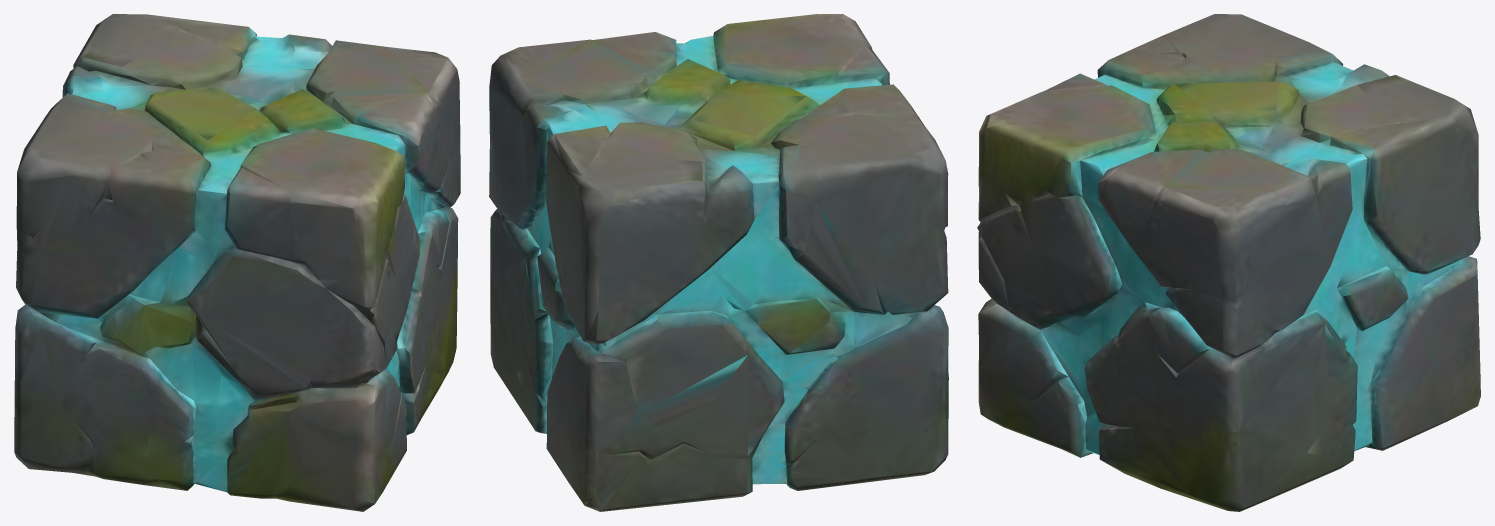
The model's file is bloque_enlace_2000.glb.
The picture shows the model from 3 angles, left to right: view 1: azimuth 30°, elevation 25°; view 2: azimuth 150°, elevation 25°; view 3: azimuth 270°, elevation 25°; orthographic projection. The views are drawn at different scales.
Visible parts, largest first — view 1: bloque_enlace_malla; view 2: bloque_enlace_malla; view 3: bloque_enlace_malla.
Part boxes in pixels (box(x1,y1,x2,y2)): bloque_enlace_malla: box(14, 14, 460, 511); bloque_enlace_malla: box(489, 14, 948, 511); bloque_enlace_malla: box(977, 14, 1480, 511).
Bounding box in the file's own units: 0.3187 × 0.2205 × 0.3231.
Materials: 1 (1 with a texture image).
